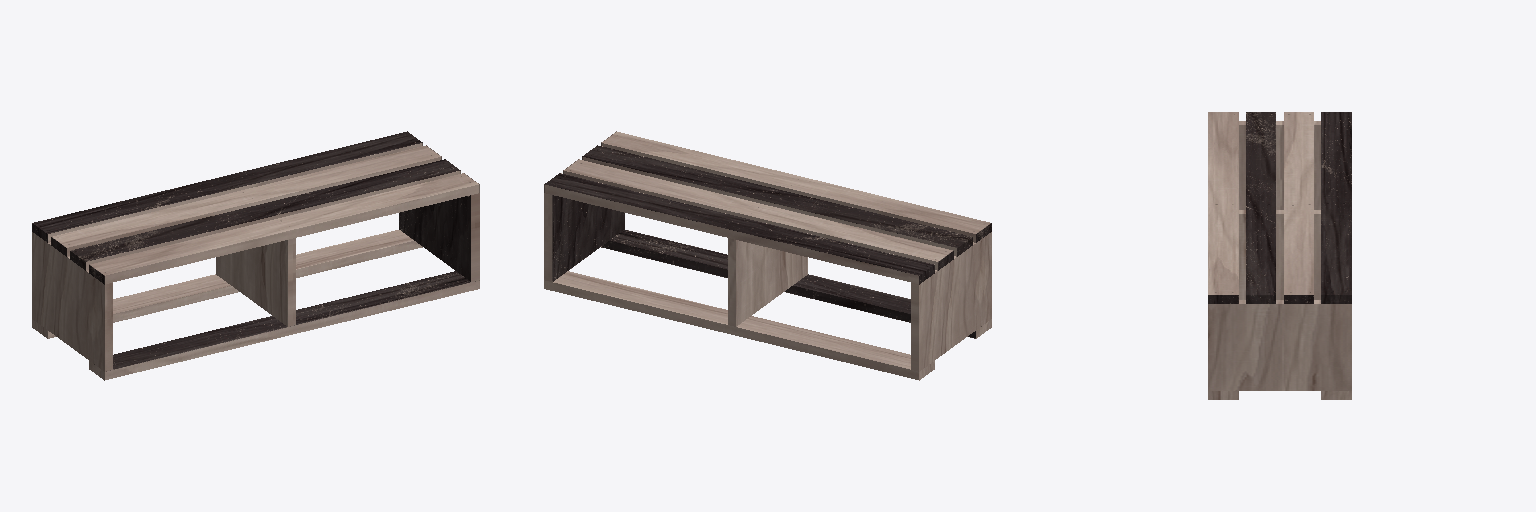
3 views of the same model, side by side, from view 1: azimuth 30°, elevation 25°; view 2: azimuth 150°, elevation 25°; view 3: azimuth 270°, elevation 25° (orthographic).
Parts seen in each view (by area): view 1: Cube.007; view 2: Cube.007; view 3: Cube.007.
Part boxes in pixels (x1,y1,x2,y2): Cube.007: (32,131,479,380); Cube.007: (544,131,991,380); Cube.007: (1208,112,1351,399).
Bounding box in the file's own units: 0.45 × 0.12 × 0.15.
Materials: 1 (1 with a texture image).